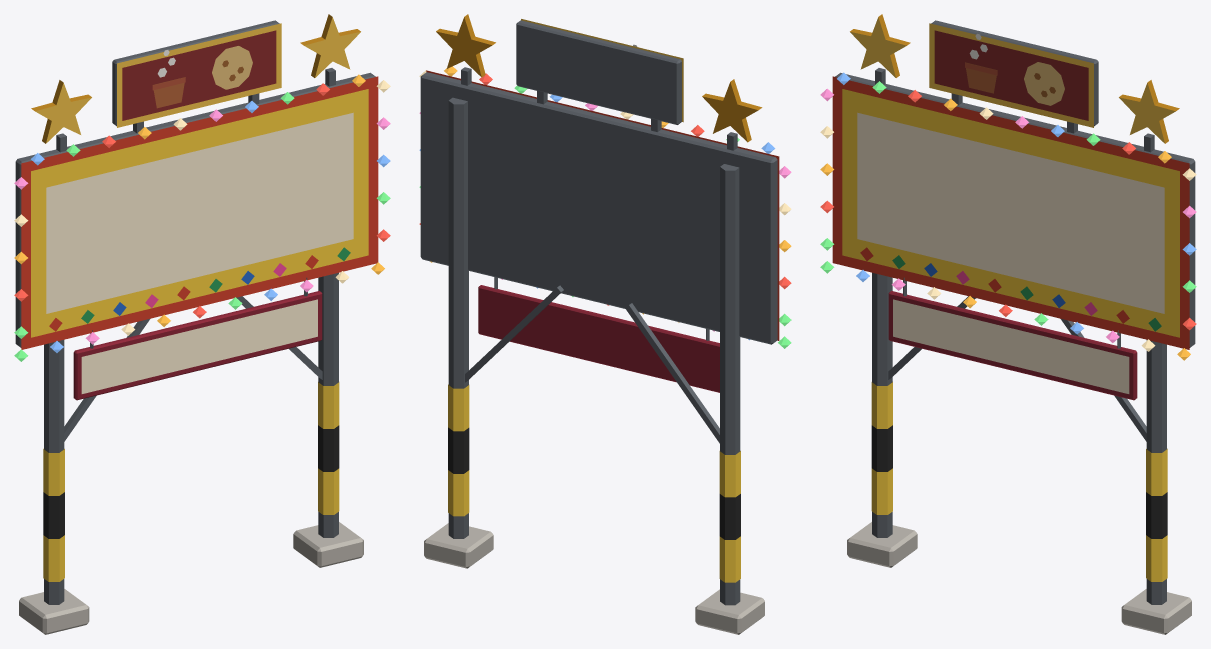
The model's file is hoarding.glb.
3 renders of one model, left to right at view 1: azimuth 30°, elevation 25°; view 2: azimuth 150°, elevation 25°; view 3: azimuth 330°, elevation 25°, orthographic.
Visible parts, largest first — view 1: hoarding_l1, hoarding_l2, hoarding_l4, fairy_bulb_hoarding, hoarding_star_2, hoarding_star_1; view 2: hoarding_l1, hoarding_l4, hoarding_l2, hoarding_star_1, hoarding_star_2, fairy_bulb_hoarding; view 3: hoarding_l1, hoarding_l2, hoarding_l4, fairy_bulb_hoarding, hoarding_star_2, hoarding_star_1.
Part boxes in pixels (x1,y1,x2,y2): hoarding_l1: (15, 72, 378, 634); hoarding_l2: (73, 277, 322, 400); hoarding_l4: (112, 20, 281, 133); fairy_bulb_hoarding: (14, 74, 390, 361); hoarding_star_2: (300, 14, 360, 86); hoarding_star_1: (31, 80, 91, 152); hoarding_l1: (420, 70, 779, 634); hoarding_l4: (516, 19, 683, 131); hoarding_l2: (478, 277, 719, 392); hoarding_star_1: (702, 79, 762, 150); hoarding_star_2: (436, 14, 495, 85); fairy_bulb_hoarding: (419, 66, 791, 348); hoarding_l1: (832, 72, 1195, 634); hoarding_l2: (888, 277, 1137, 400); hoarding_l4: (929, 20, 1098, 133); fairy_bulb_hoarding: (820, 72, 1196, 360); hoarding_star_2: (1119, 80, 1179, 152); hoarding_star_1: (850, 14, 910, 84).
Size of the model in its own units: 2.72 by 3.84 by 0.355.
Materials: 2 (1 with a texture image).
